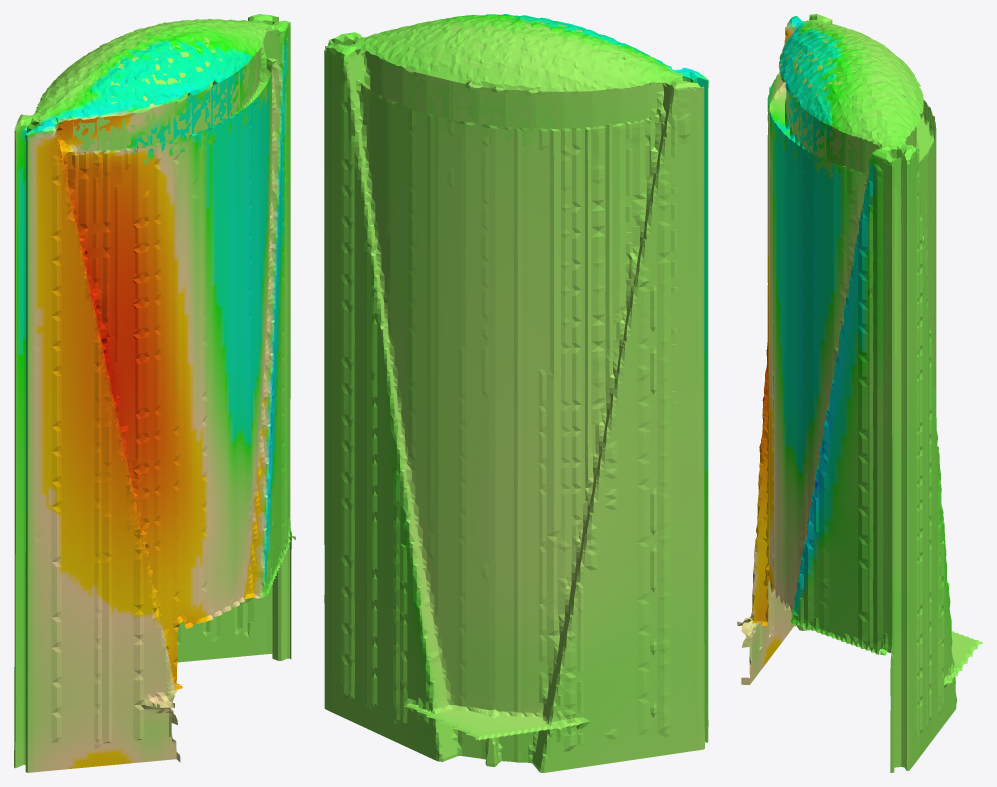
Rendered from windpressure_building_9.gltf.
3 renders of one model, left to right at view 1: azimuth 30°, elevation 25°; view 2: azimuth 150°, elevation 25°; view 3: azimuth 270°, elevation 25°, orthographic. The views are drawn at different scales.
Visible parts, largest first — view 1: 0; view 2: 0; view 3: 0.
Part boxes in pixels (<box>): 0: <box>14,14,295,772</box>; 0: <box>324,14,708,772</box>; 0: <box>737,14,982,772</box>.
Size of the model in its own units: 64.67 by 131 by 45.
Materials: 1 (1 with a texture image).
